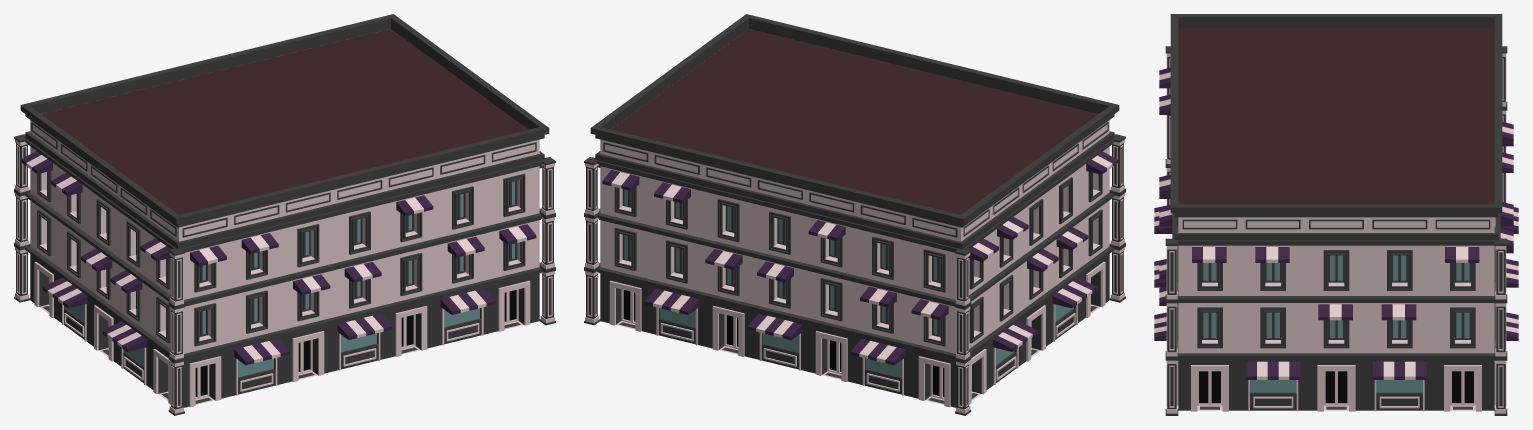
3 views of the same model, side by side, from view 1: azimuth 30°, elevation 25°; view 2: azimuth 150°, elevation 25°; view 3: azimuth 270°, elevation 25° (orthographic). The views are drawn at different scales.
Visible parts, largest first — view 1: Procedural Building; view 2: Procedural Building; view 3: Procedural Building.
Boxes of the visible parts, left/top/right/bottom form: Procedural Building: left=14, top=14, right=555, bottom=415; Procedural Building: left=584, top=14, right=1125, bottom=415; Procedural Building: left=1154, top=14, right=1518, bottom=415.
Size of the model in its own units: 776 by 360 by 576.
